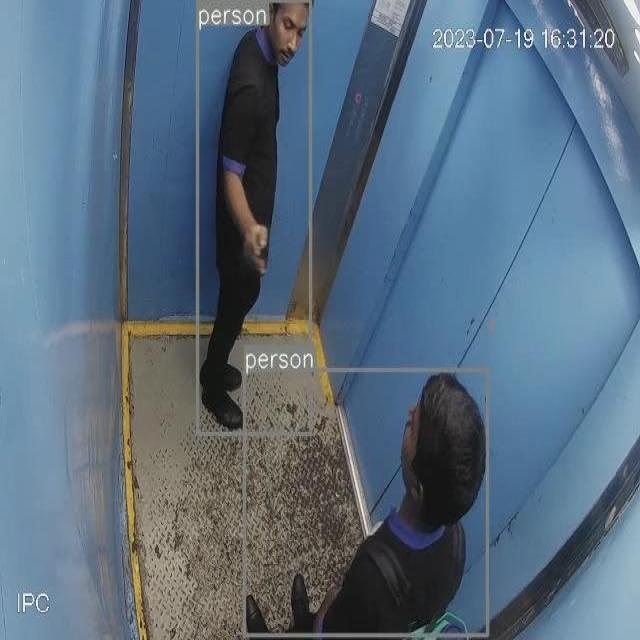person: (247, 368, 488, 640), (195, 1, 309, 434)
